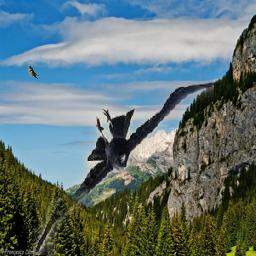Crow: (34, 81, 215, 255)
Swallow: (28, 65, 40, 79)
